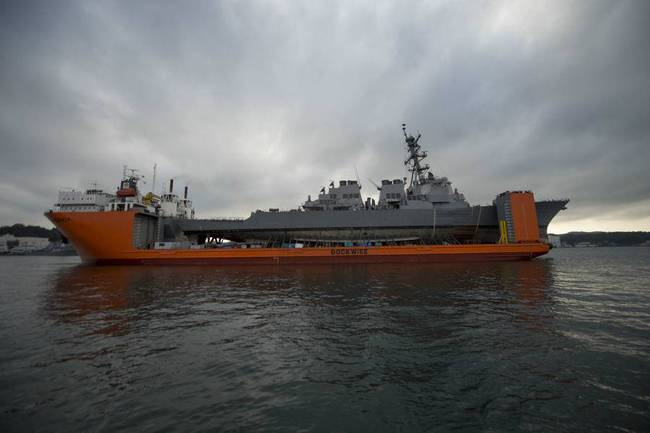Cargoship: (36, 166, 559, 275)
warship: (178, 122, 570, 237)
